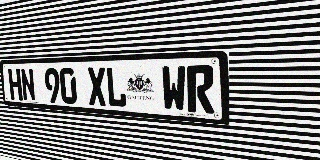0: (59, 68, 77, 104)
9: (44, 68, 61, 103)
H: (8, 69, 23, 101)
L: (105, 67, 127, 108)
N: (20, 68, 36, 101)
R: (187, 65, 214, 114)
W: (161, 66, 187, 112)
X: (87, 67, 107, 106)
